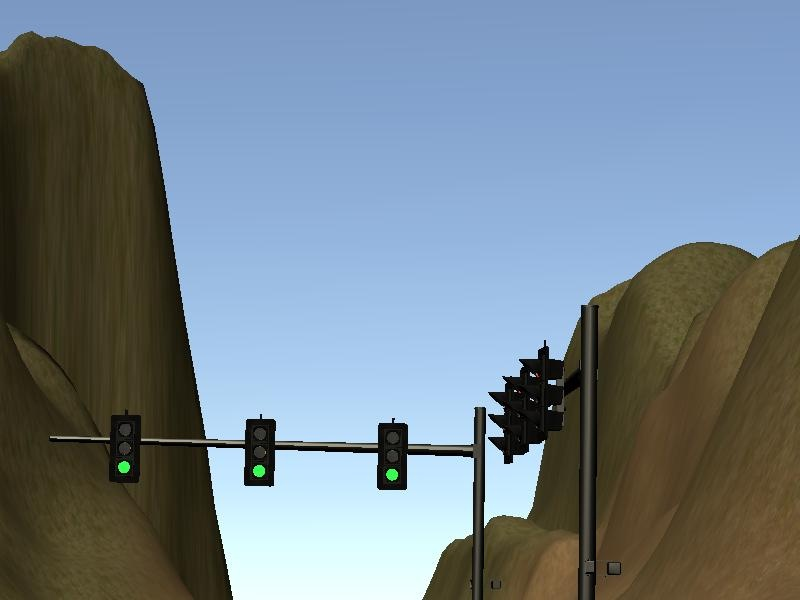green: (108, 412, 141, 482), (377, 422, 407, 492), (245, 418, 274, 485)
